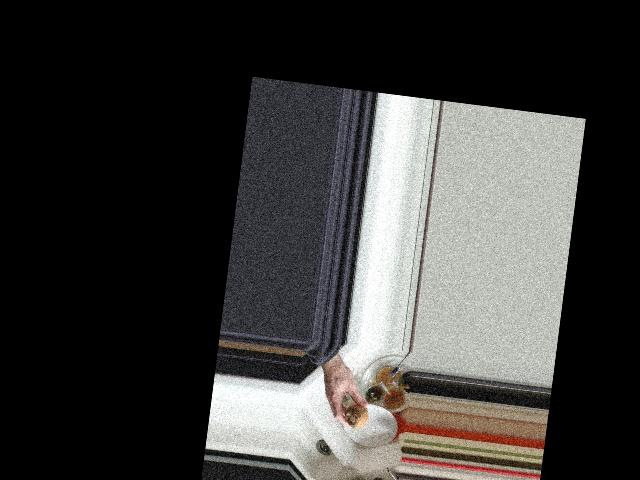sweet_potato: (342, 396, 371, 431)
